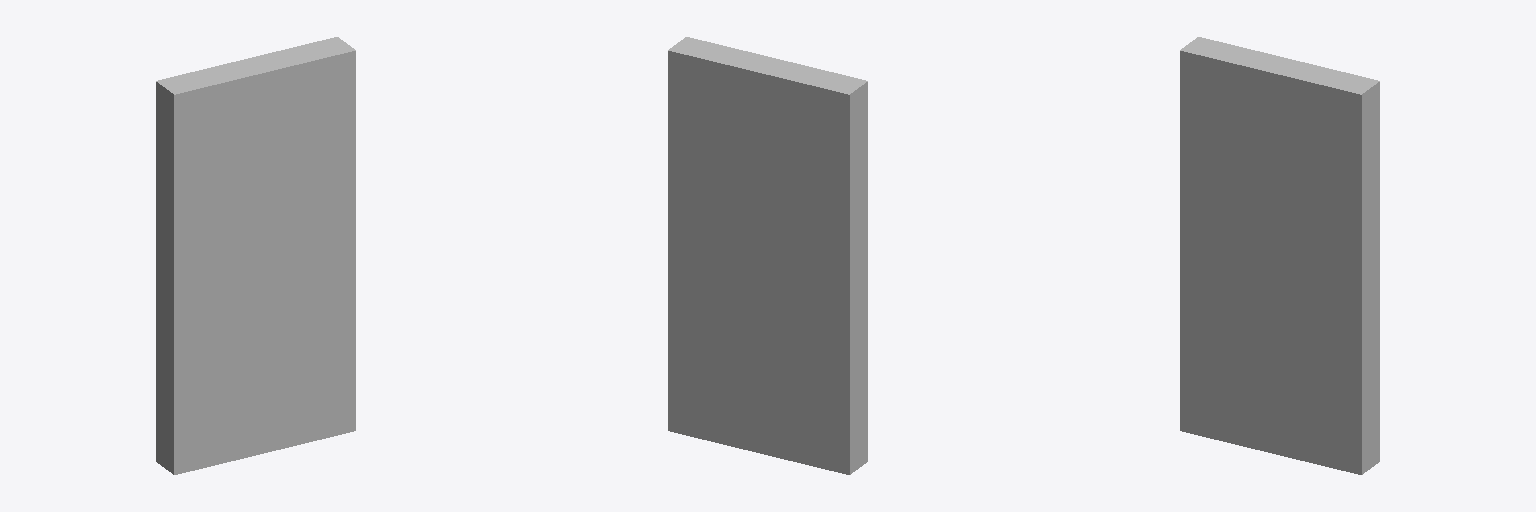
The model's file is Door.obj.
The picture shows the model from 3 angles: view 1: azimuth 30°, elevation 25°; view 2: azimuth 150°, elevation 25°; view 3: azimuth 330°, elevation 25°; orthographic projection.
Visible parts, largest first — view 1: Frame_Cube; view 2: Frame_Cube; view 3: Frame_Cube.
Boxes of the visible parts, <box> form: Frame_Cube: <box>156,37,355,474</box>; Frame_Cube: <box>668,37,867,474</box>; Frame_Cube: <box>1180,37,1379,474</box>.
Size of the model in its own units: 2 by 4 by 0.3588.